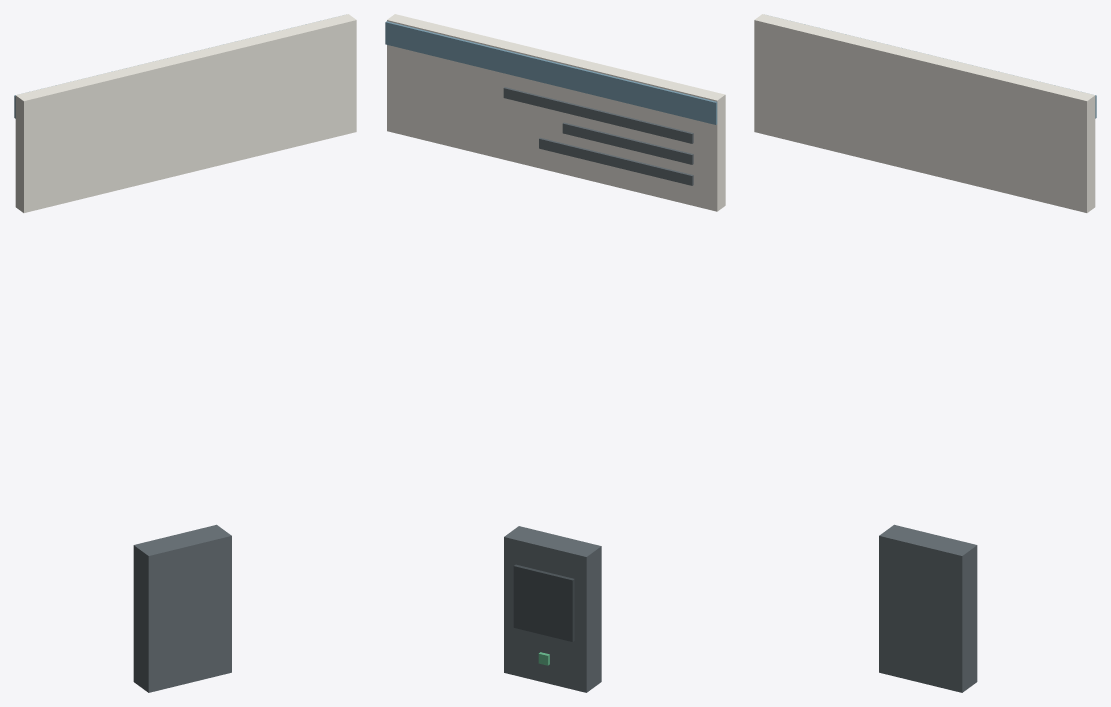
File: door_plate.fbx
The picture shows the model from 3 angles, left to right: view 1: azimuth 30°, elevation 25°; view 2: azimuth 150°, elevation 25°; view 3: azimuth 330°, elevation 25°; orthographic projection.
Parts seen in each view (by area): view 1: door_plate; view 2: door_plate; view 3: door_plate.
Boxes of the visible parts, x1,y1,x2,y2 form: door_plate: (14,14,356,692); door_plate: (385,14,725,692); door_plate: (754,14,1096,692).
Size of the model in its own units: 28 by 50 by 2.5.
